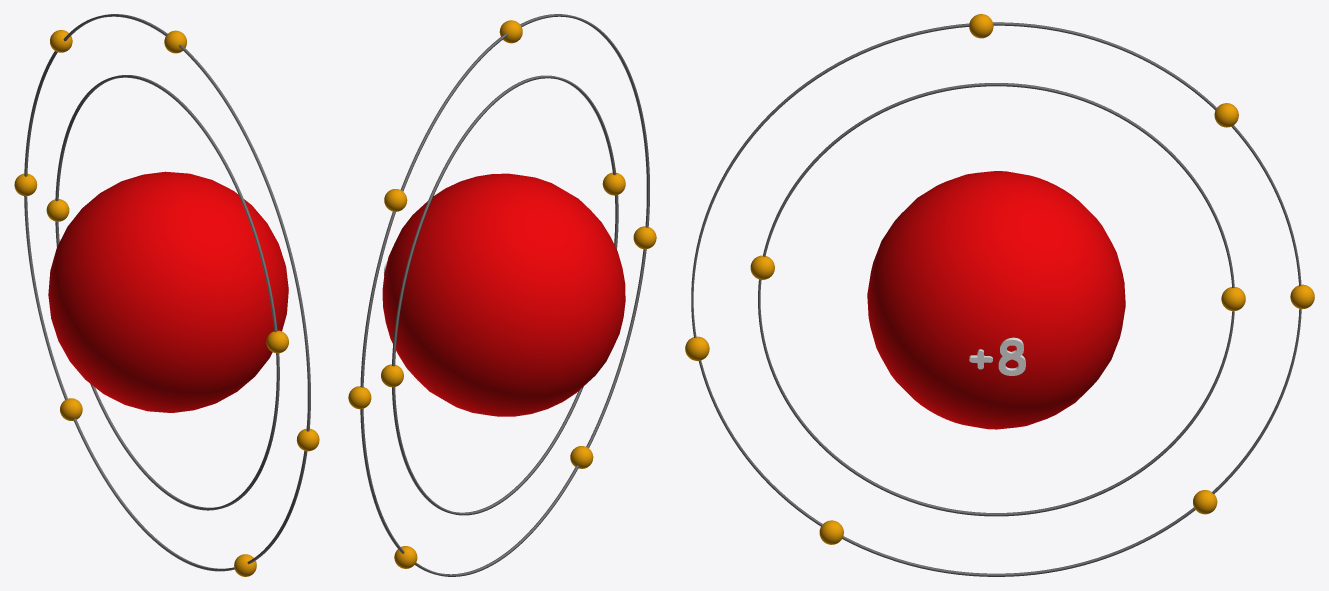
Rendered from OAtom.fbx.
3 views of the same model, side by side, from view 1: azimuth 30°, elevation 25°; view 2: azimuth 150°, elevation 25°; view 3: azimuth 270°, elevation 25° (orthographic). The views are drawn at different scales.
Parts seen in each view (by area): view 1: central, 2.circle, 1.circle, Sphere.001, Sphere.003, Sphere, Sphere.005, Sphere.002, Sphere.007, Sphere.004, Sphere.008; view 2: central, 2.circle, 1.circle, Sphere.005, Sphere.002, Sphere.008, Sphere, Sphere.001, Sphere.004, Sphere.003, Sphere.007; view 3: central, 2.circle, 1.circle, Text.
Boxes of the visible parts, x1,y1,x2,y2 form: central: (48,171,288,412); 2.circle: (24,14,310,571); 1.circle: (55,75,279,510); Sphere.001: (46,199,69,221); Sphere.003: (60,398,82,420); Sphere: (266,330,288,353); Sphere.005: (296,428,319,451); Sphere.002: (14,173,37,196); Sphere.007: (164,30,186,53); Sphere.004: (234,554,256,576); Sphere.008: (50,30,72,52); central: (382,173,625,416); 2.circle: (360,14,649,576); 1.circle: (392,75,618,515); Sphere.005: (633,226,656,249); Sphere.002: (348,386,371,409); Sphere.008: (384,189,407,211); Sphere: (602,172,625,195); Sphere.001: (381,364,403,387); Sphere.004: (570,446,593,468); Sphere.003: (394,546,417,568); Sphere.007: (499,20,522,43); central: (867,171,1125,429); 2.circle: (691,22,1301,576); 1.circle: (758,83,1234,516); Text: (969,337,1025,375).
Size of the model in its own units: 101 by 240 by 243.
